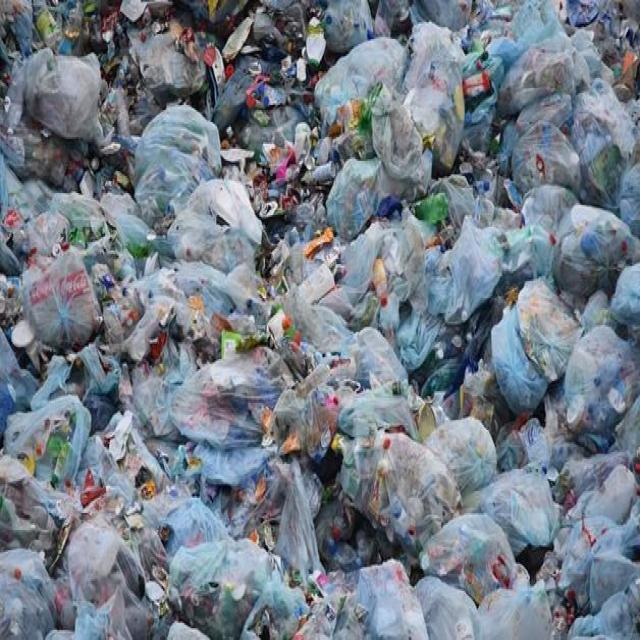heap: (1, 1, 640, 639)
plastic_bag: (137, 104, 227, 238)
plastic_bottle: (414, 196, 453, 228)
